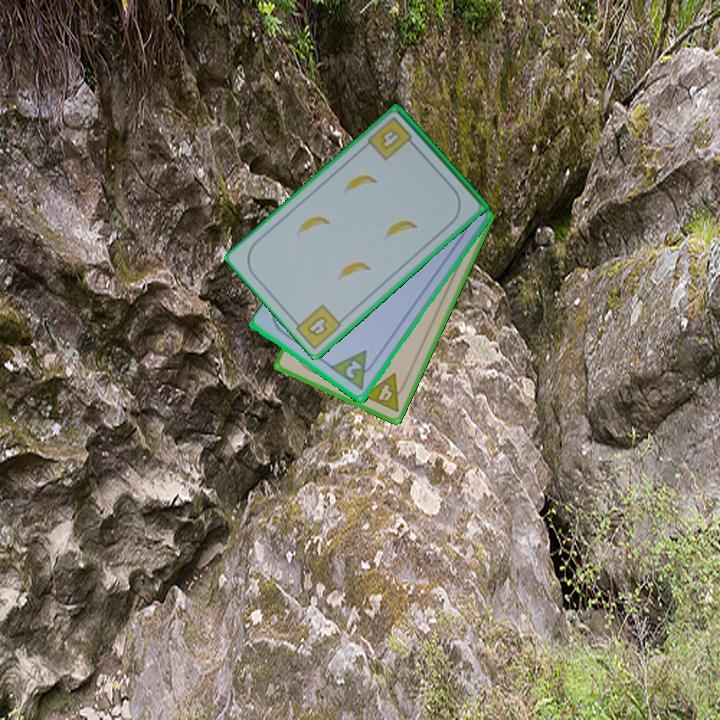2p: (342, 357, 365, 382)
4b: (364, 113, 419, 164), (303, 313, 330, 340)
4p: (359, 370, 411, 415)
